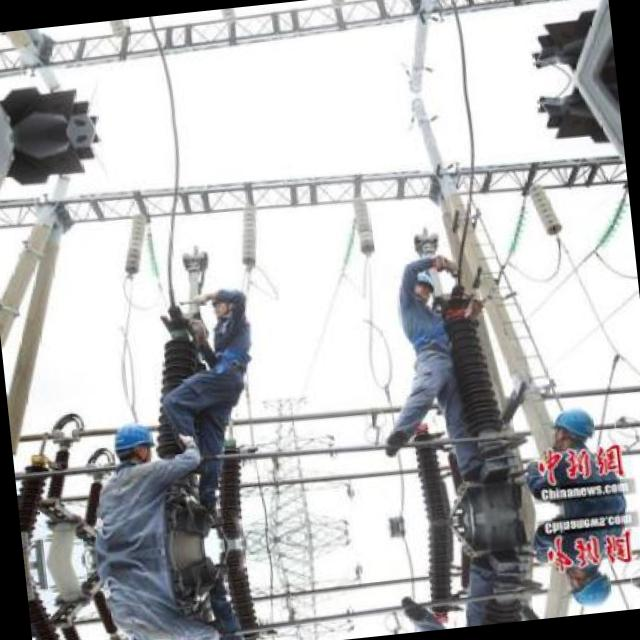helmet: (107, 417, 159, 468), (546, 403, 596, 451), (562, 562, 612, 610), (408, 268, 438, 304)
